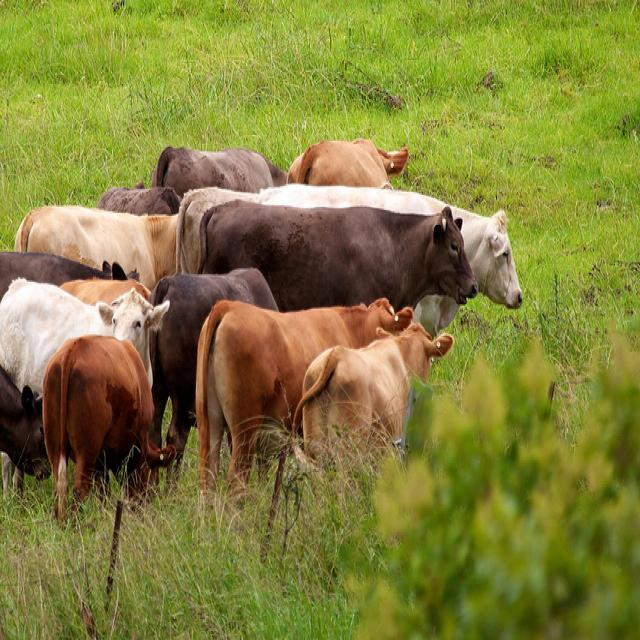cow: (195, 298, 414, 513), (175, 178, 524, 309), (199, 202, 478, 315), (144, 265, 278, 498), (288, 319, 453, 496), (39, 333, 175, 535), (0, 273, 165, 399), (12, 201, 177, 288), (93, 185, 177, 284), (149, 146, 292, 200), (288, 135, 407, 187), (0, 250, 126, 297), (58, 274, 147, 303)
